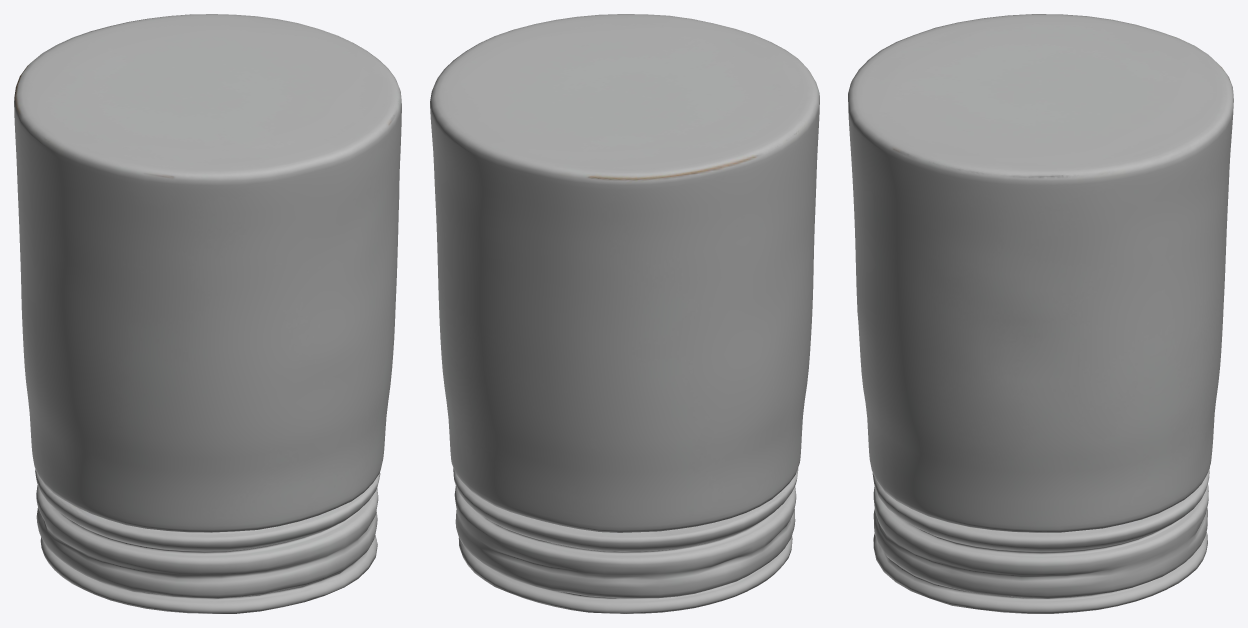
The picture shows the model from 3 angles, left to right: view 1: azimuth 30°, elevation 25°; view 2: azimuth 150°, elevation 25°; view 3: azimuth 270°, elevation 25°; orthographic projection.
Parts seen in each view (by area): view 1: tripo_node_d1cff146-27e7-422d-9d86-dd4159b26bc3; view 2: tripo_node_d1cff146-27e7-422d-9d86-dd4159b26bc3; view 3: tripo_node_d1cff146-27e7-422d-9d86-dd4159b26bc3.
Part boxes in pixels (box(x1,y1,x2,y2)): tripo_node_d1cff146-27e7-422d-9d86-dd4159b26bc3: box(14, 14, 401, 613); tripo_node_d1cff146-27e7-422d-9d86-dd4159b26bc3: box(430, 14, 819, 613); tripo_node_d1cff146-27e7-422d-9d86-dd4159b26bc3: box(848, 14, 1233, 613).
Bounding box in the file's own units: 0.7719 × 0.9999 × 0.7705.
1 material, 1 textured.
